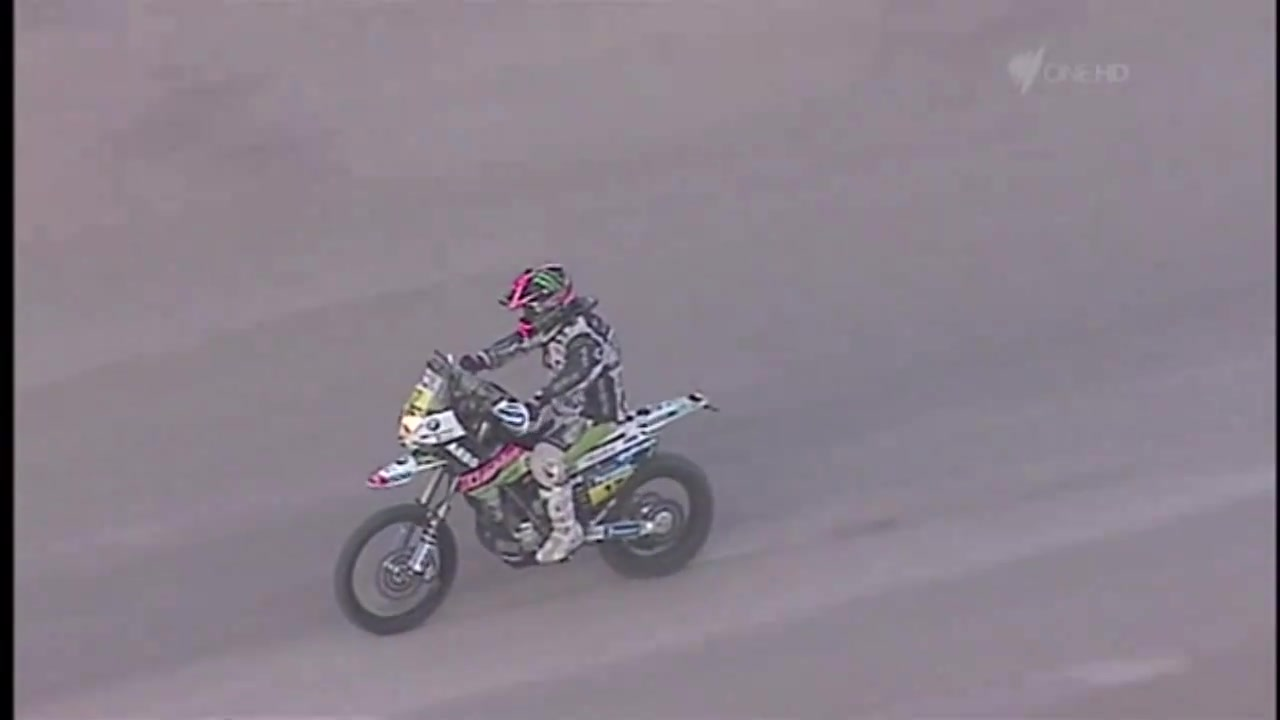motorbike: (335, 350, 720, 638)
